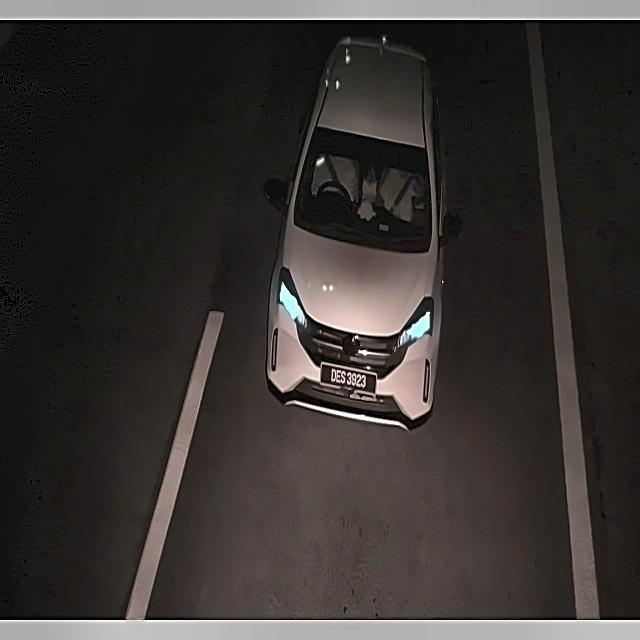car: (319, 361, 377, 399)
